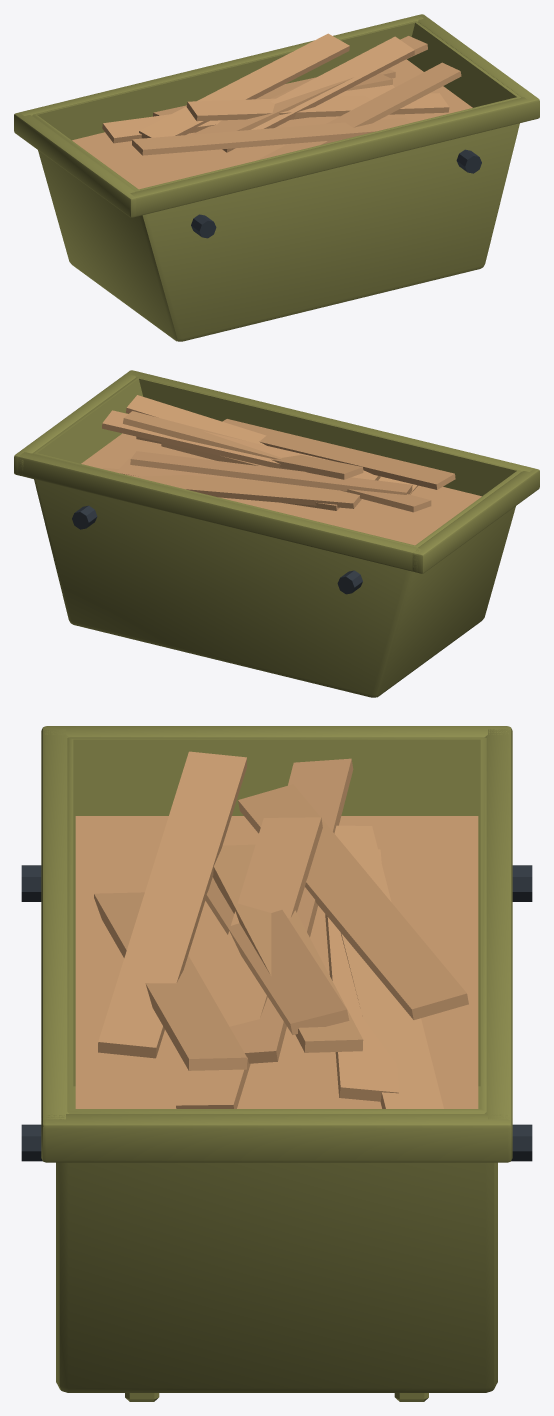
The model's file is ENV_WASTE_SKIP_A_WOOD_v001.glb.
3 views of the same model, one above another, from view 1: azimuth 30°, elevation 25°; view 2: azimuth 150°, elevation 25°; view 3: azimuth 270°, elevation 25° (orthographic). The views are drawn at different scales.
Parts seen in each view (by area): view 1: ENV_WASTE_SKIP_A_BODY, ENV_WASTE_SKIP_A_CONTENT, ENV_WASTE_SKIP_A_FITTINGS; view 2: ENV_WASTE_SKIP_A_BODY, ENV_WASTE_SKIP_A_CONTENT, ENV_WASTE_SKIP_A_FITTINGS; view 3: ENV_WASTE_SKIP_A_BODY, ENV_WASTE_SKIP_A_CONTENT, ENV_WASTE_SKIP_A_FITTINGS.
Boxes of the visible parts, <box> form: ENV_WASTE_SKIP_A_BODY: <box>14,14,539,341</box>; ENV_WASTE_SKIP_A_CONTENT: <box>72,33,472,189</box>; ENV_WASTE_SKIP_A_FITTINGS: <box>191,149,481,238</box>; ENV_WASTE_SKIP_A_BODY: <box>14,370,539,697</box>; ENV_WASTE_SKIP_A_CONTENT: <box>81,395,481,545</box>; ENV_WASTE_SKIP_A_FITTINGS: <box>72,505,362,594</box>; ENV_WASTE_SKIP_A_BODY: <box>41,726,512,1401</box>; ENV_WASTE_SKIP_A_CONTENT: <box>75,751,478,1108</box>; ENV_WASTE_SKIP_A_FITTINGS: <box>21,865,532,1161</box>.
Bounding box in the file's own units: 3.86 × 1.76 × 2.08.
